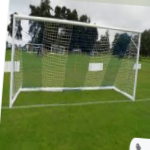goals: (7, 13, 143, 110)
